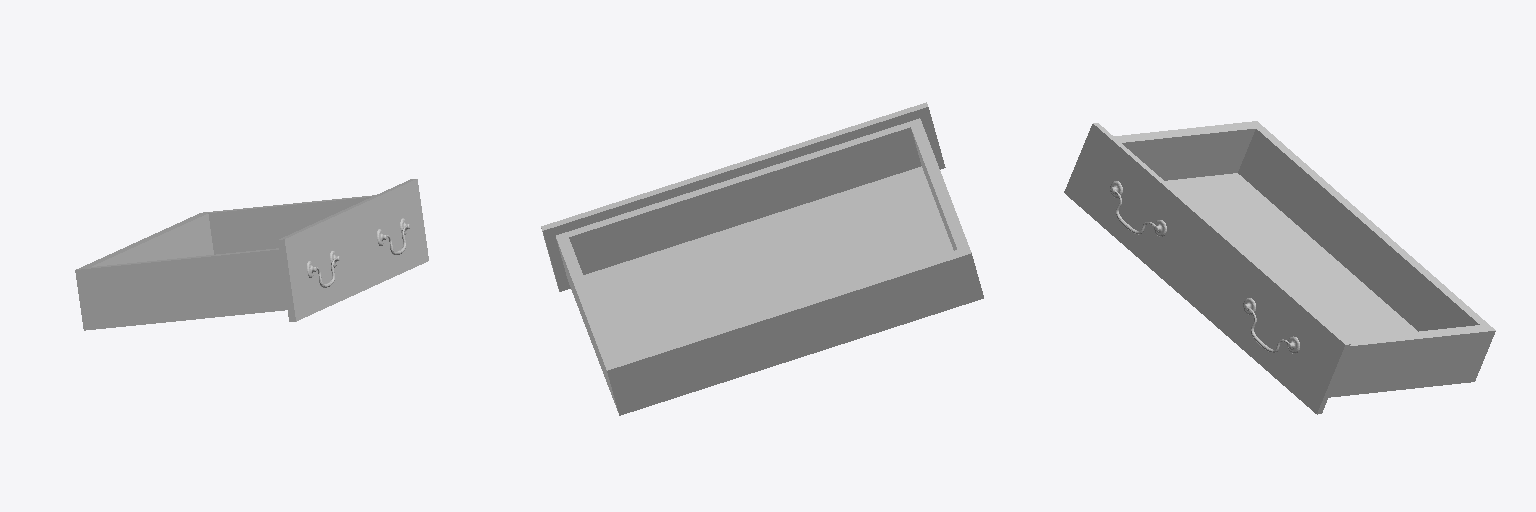
Rendered from d1_drawer2.obj.
The picture shows the model from 3 angles: view 1: azimuth 30°, elevation 25°; view 2: azimuth 150°, elevation 25°; view 3: azimuth 270°, elevation 25°; orthographic projection.
Visible parts, largest first — view 1: Drawers_low.002__0; view 2: Drawers_low.002__0; view 3: Drawers_low.002__0, Handle02_low.002__0.
Part boxes in pixels (left/top/right/bottom): Drawers_low.002__0: left=75, top=179, right=428, bottom=330; Drawers_low.002__0: left=541, top=102, right=983, bottom=415; Drawers_low.002__0: left=1064, top=121, right=1495, bottom=414; Handle02_low.002__0: left=1110, top=181, right=1299, bottom=353.
Bounding box in the file's own units: 5.03 × 2.5 × 4.84.